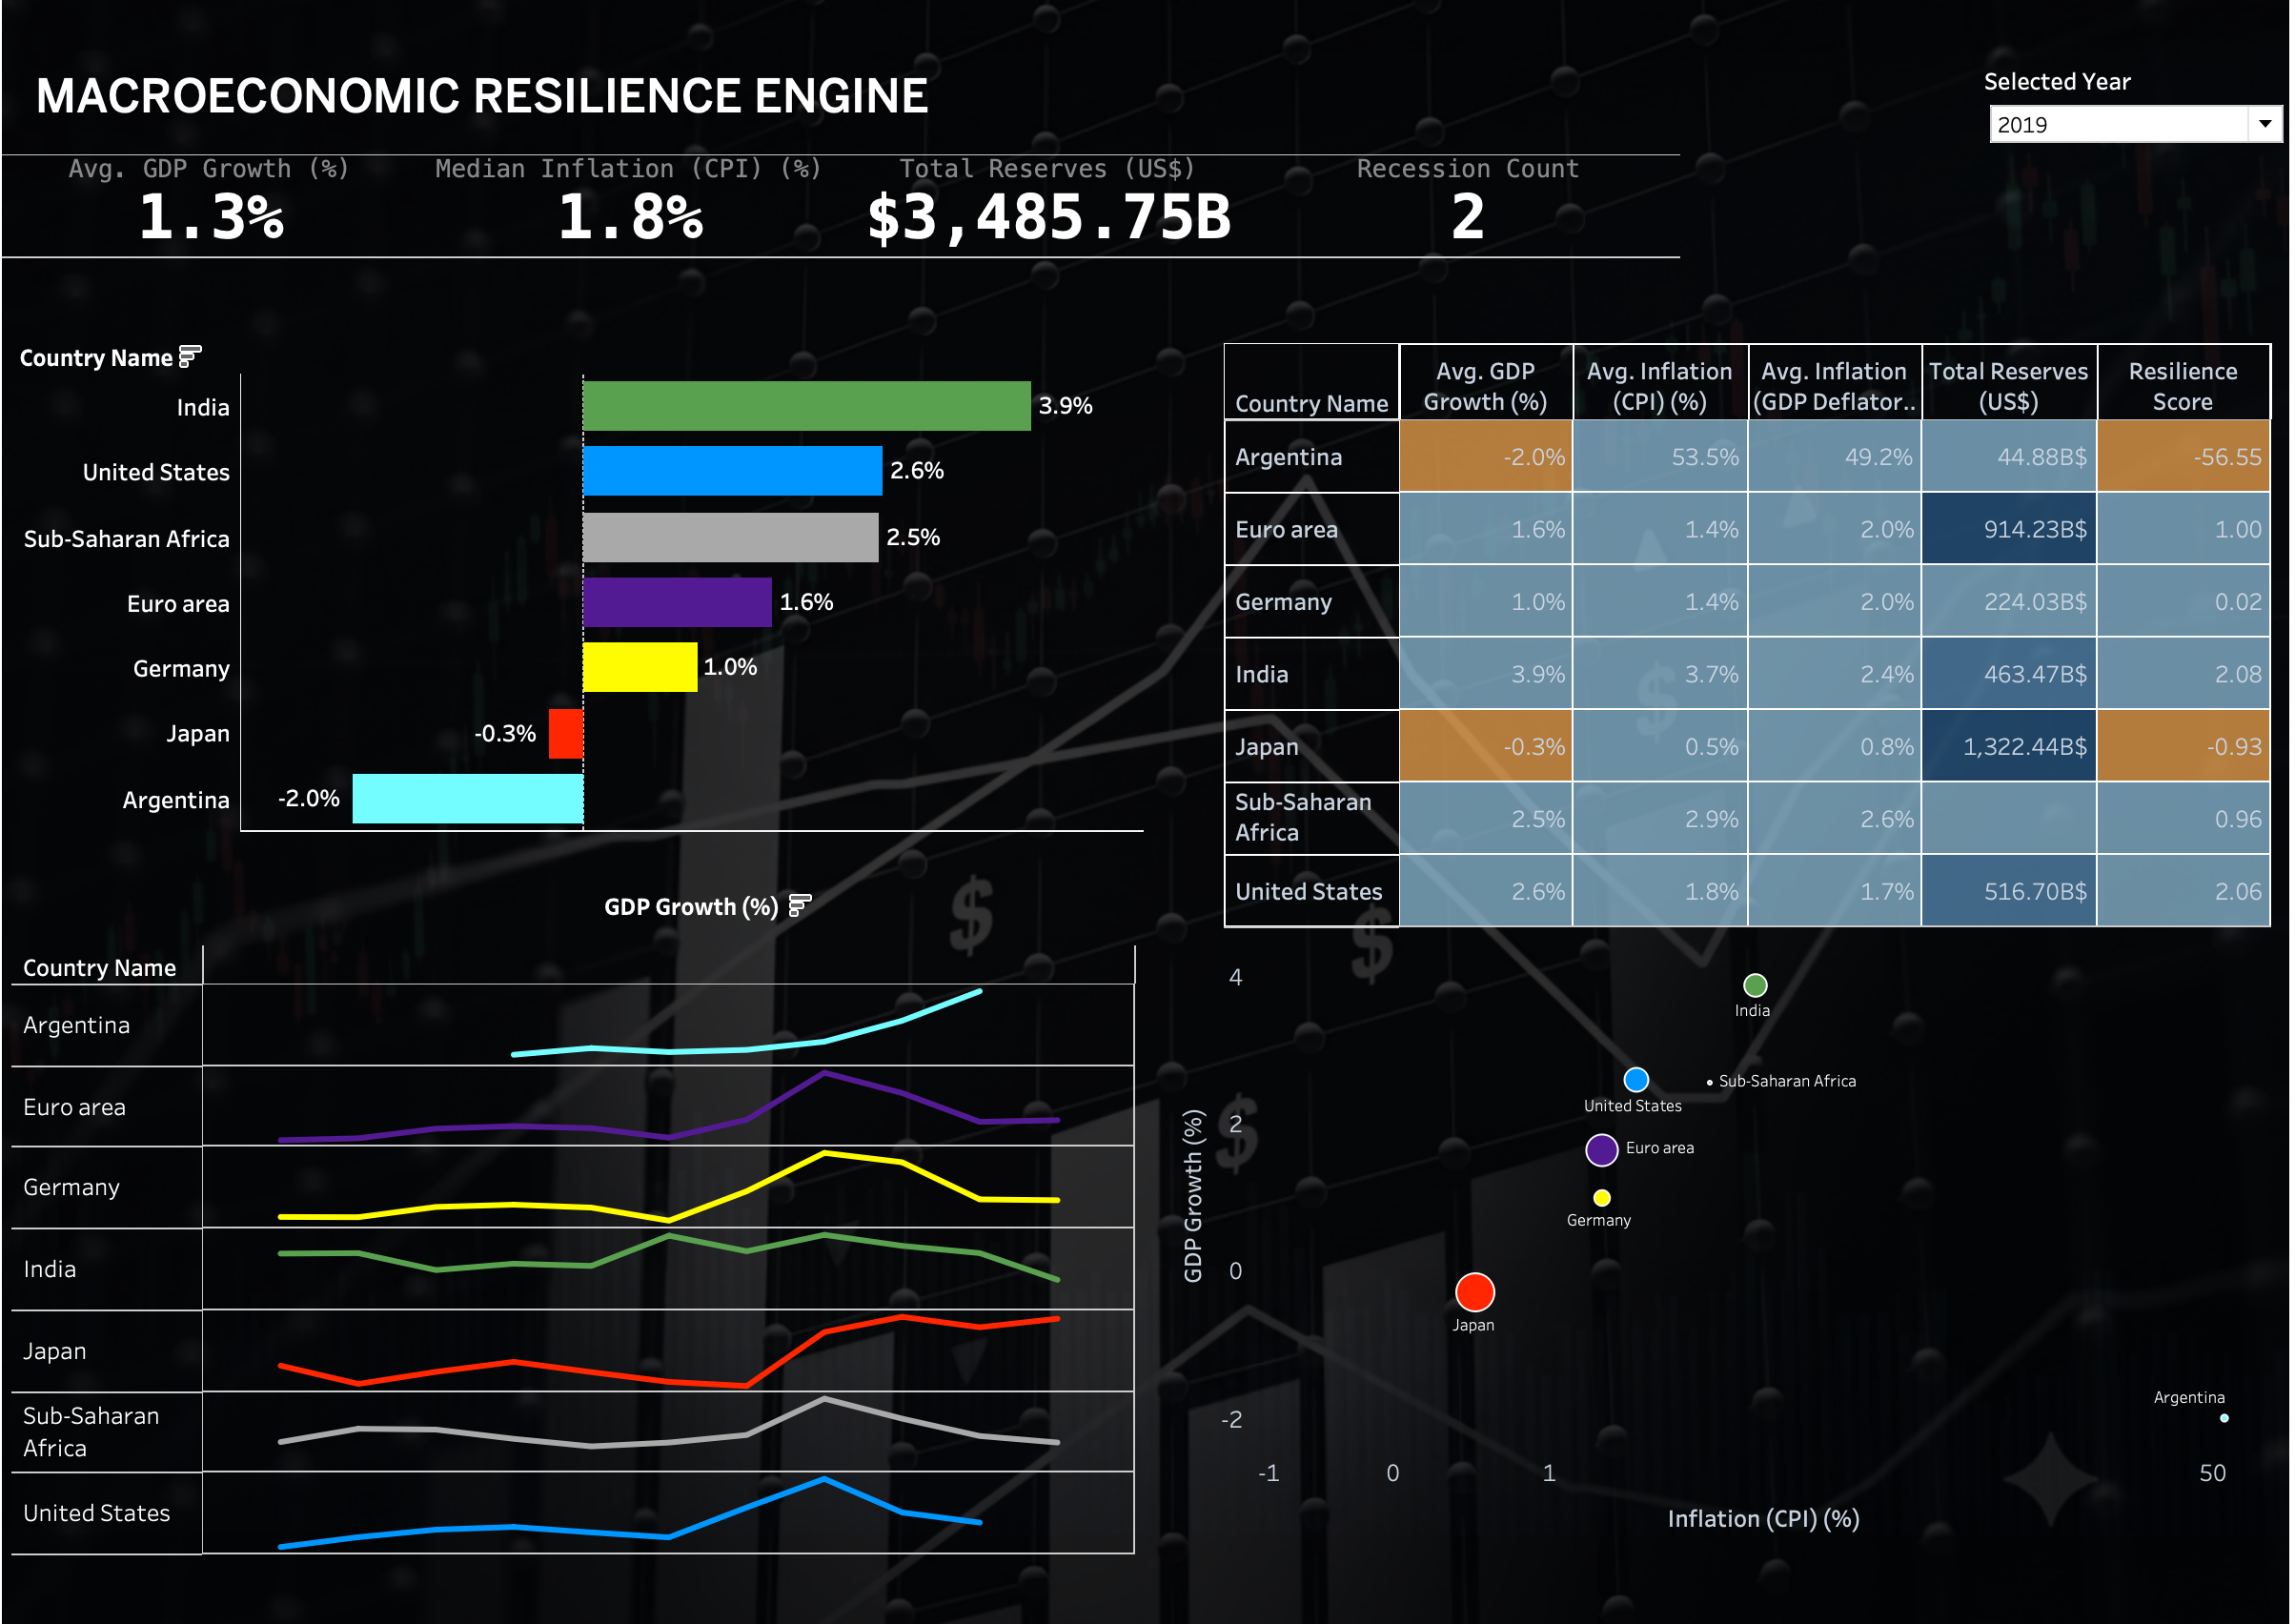

Layout of this report page (visuals, bound fields, positions):
{"tool":"tableau","page":{"name":"Dashboard 1","canvas":[1200,800],"ordinal":0},"visuals":[{"type":"blank","box":[0,0,1200,60]},{"type":"parameter","param":"[Parameters].[Parameter 0875317051428880]","box":[1040,13,160,44]},{"type":"text","box":[15,15,500,30]},{"type":"worksheet","title":"KPI Banner","mark":"Automatic","box":[0,60,1200,90]},{"type":"worksheet","title":"Avg. GDP Growth (%) by Region","mark":"Automatic","rows":["Country Name"],"cols":["GDP Growth (%)"],"box":[5,155,594,315]},{"type":"worksheet","title":"Details Matrix","mark":"Square","rows":["Country Name"],"box":[637,155,558,315]},{"type":"worksheet","title":"sparkline","mark":"Automatic","rows":["Country Name","Inflation (CPI) (%)"],"cols":["Year"],"box":[5,475,590,320]},{"type":"worksheet","title":"Correlation Engine","mark":"Circle","rows":["GDP Growth (%)"],"cols":["Inflation (CPI) (%)"],"box":[605,475,590,320]}]}

Visuals, with their boxes on the page's 1200x800 design canvas (x1, y1, x2, y2). These are canvas units, not pixel positions in the 2295x1624 screenshot, which may show the page scaled, cropped or inside an application window:
blank: x1=0, y1=0, x2=1200, y2=60
parameter: x1=1040, y1=13, x2=1200, y2=57
text: x1=15, y1=15, x2=515, y2=45
"KPI Banner" worksheet: x1=0, y1=60, x2=1200, y2=150
"Avg. GDP Growth (%) by Region" worksheet: x1=5, y1=155, x2=599, y2=470
"Details Matrix" worksheet (Square marks): x1=637, y1=155, x2=1195, y2=470
"sparkline" worksheet: x1=5, y1=475, x2=595, y2=795
"Correlation Engine" worksheet (Circle marks): x1=605, y1=475, x2=1195, y2=795
